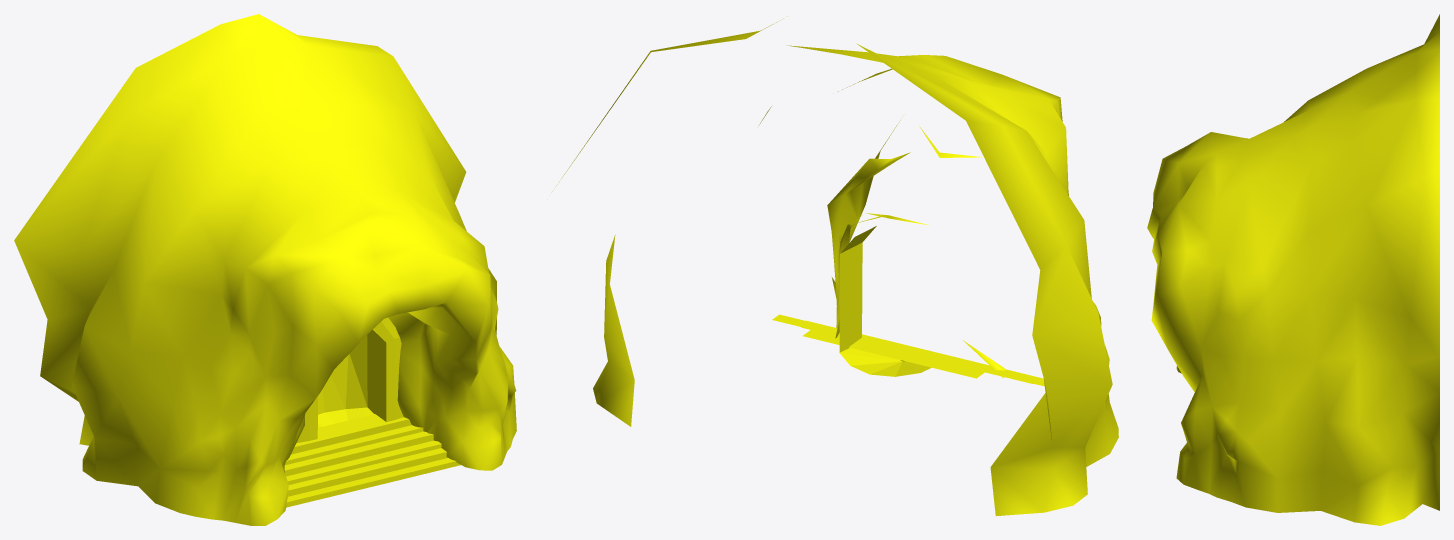
File: dmw_entrance.glb
3 renders of one model, left to right at view 1: azimuth 30°, elevation 25°; view 2: azimuth 150°, elevation 25°; view 3: azimuth 270°, elevation 25°, orthographic. The views are drawn at different scales.
Visible parts, largest first — view 1: dmw_entrance_rock, dmw_entrance_bilid; view 2: dmw_entrance_rock, dmw_entrance_bilid; view 3: dmw_entrance_rock.
Part boxes in pixels (box(x1,y1,x2,y2)): dmw_entrance_rock: box(14, 14, 516, 525); dmw_entrance_bilid: box(284, 317, 447, 496); dmw_entrance_rock: box(552, 18, 1118, 515); dmw_entrance_bilid: box(772, 226, 1044, 386); dmw_entrance_rock: box(1147, 14, 1439, 525).
Size of the model in its own units: 37.24 by 30.57 by 21.08.
Materials: 2 (2 with a texture image).
